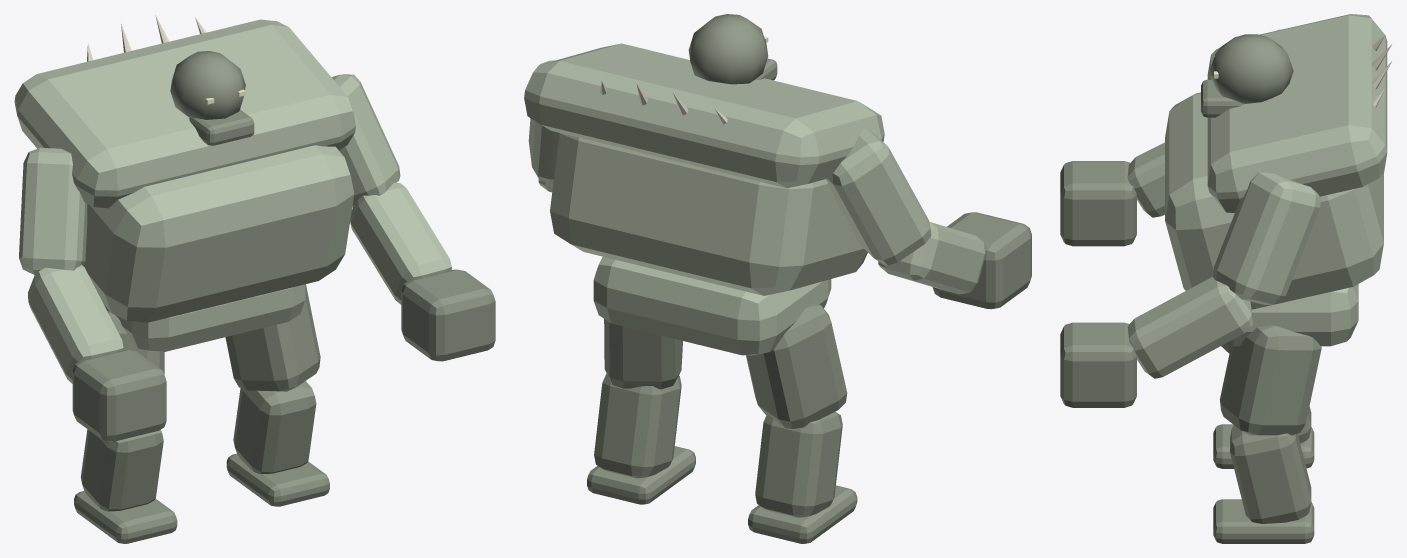
File: enemy_specimen.fbx
3 renders of one model, left to right at view 1: azimuth 30°, elevation 25°; view 2: azimuth 150°, elevation 25°; view 3: azimuth 270°, elevation 25°, orthographic. The views are drawn at different scales.
Parts seen in each view (by area): view 1: enemy_specimen, ArmR, ArmL, LegL.007, LegR.007, Head; view 2: enemy_specimen, LegR.007, ArmR, LegL.007, Head, ArmL; view 3: enemy_specimen, ArmL, LegL.007, ArmR, Head, LegR.007.
Part boxes in pixels (box(x1,y1,x2,y2)): enemy_specimen: box(14, 15, 355, 351); ArmR: box(19, 147, 166, 441); ArmL: box(331, 74, 495, 361); LegL.007: box(225, 284, 329, 506); LegR.007: box(74, 311, 177, 543); Head: box(170, 51, 254, 145); enemy_specimen: box(524, 43, 884, 355); LegR.007: box(746, 302, 857, 543); ArmR: box(826, 128, 1031, 309); LegL.007: box(587, 319, 695, 504); Head: box(688, 14, 777, 84); ArmL: box(528, 60, 559, 192); enemy_specimen: box(1165, 14, 1391, 346); ArmL: box(1060, 172, 1320, 407); LegL.007: box(1213, 325, 1321, 543); ArmR: box(1060, 29, 1280, 246); Head: box(1201, 34, 1293, 117); LegR.007: box(1213, 344, 1314, 468).
Bounding box in the file's own units: 3 × 3.3 × 2.17.
